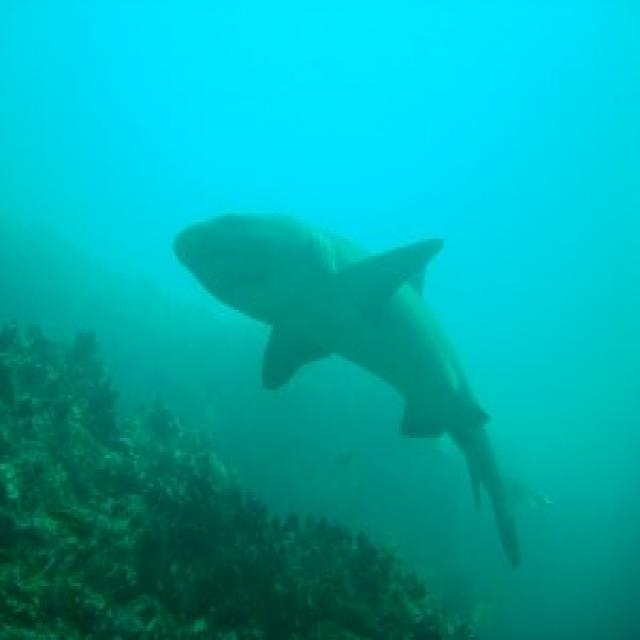Shark: (168, 201, 546, 577)
